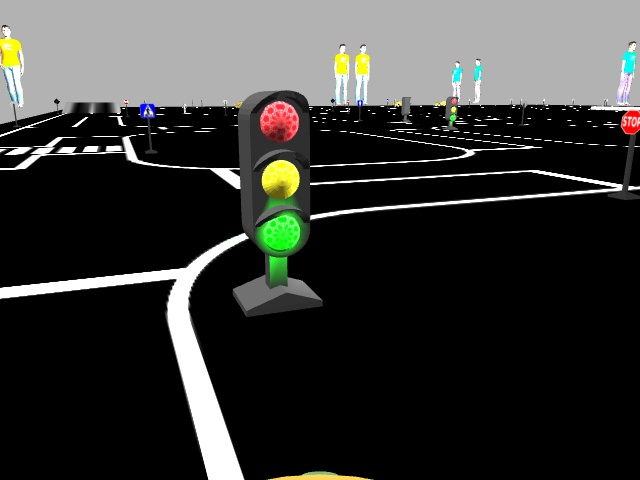Crosswalk: (140, 103, 153, 117)
TrafficLight: (240, 85, 311, 253)
